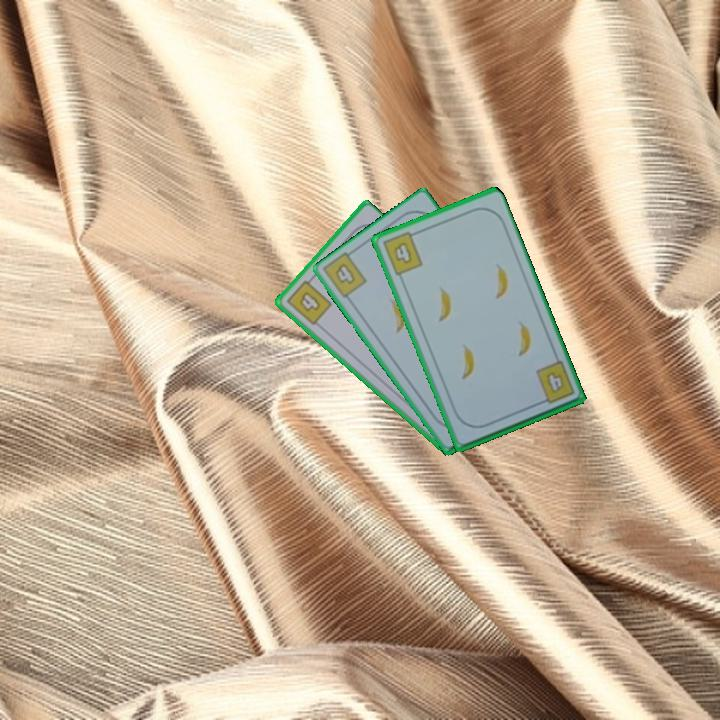4b: (283, 273, 335, 329), (379, 228, 425, 279), (532, 358, 577, 407), (331, 259, 358, 287)
